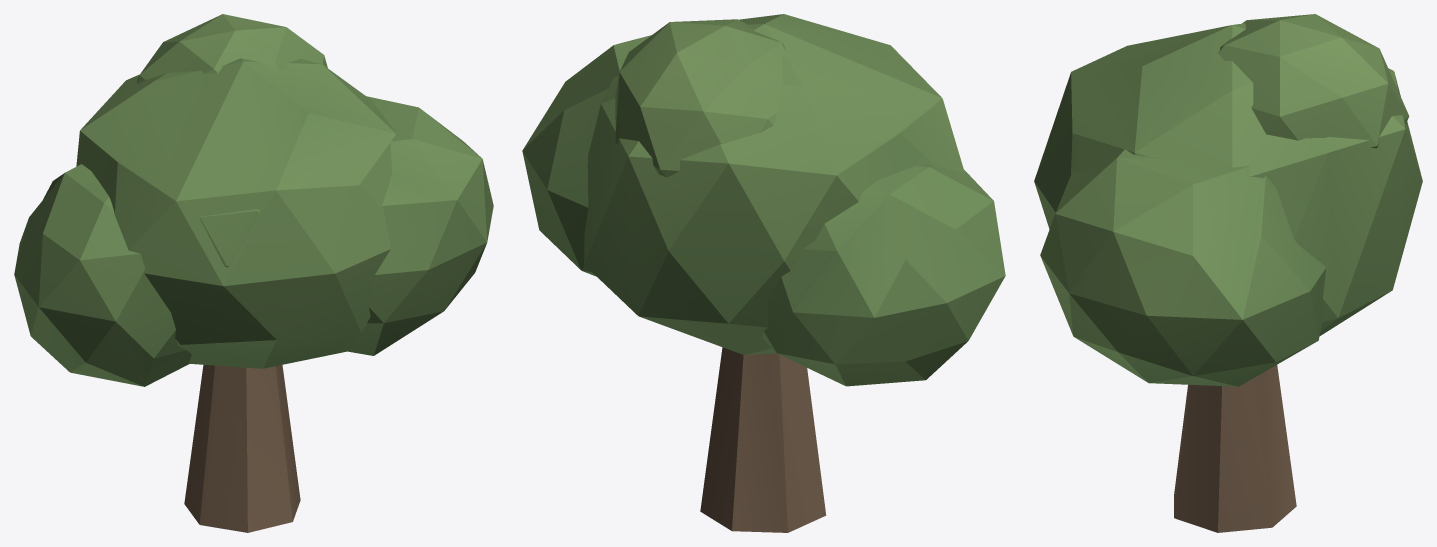
Rendered from tree_deciduous.glb.
The picture shows the model from 3 angles, left to right: view 1: azimuth 30°, elevation 25°; view 2: azimuth 150°, elevation 25°; view 3: azimuth 270°, elevation 25°; orthographic projection. The views are drawn at different scales.
Visible parts, largest first — view 1: Tree_Deciduous_Master; view 2: Tree_Deciduous_Master; view 3: Tree_Deciduous_Master.
Boxes of the visible parts, <box> form: Tree_Deciduous_Master: <box>14,14,493,532</box>; Tree_Deciduous_Master: <box>522,14,1005,532</box>; Tree_Deciduous_Master: <box>1034,14,1422,532</box>.
Size of the model in its own units: 2.48 by 2.51 by 1.79.
